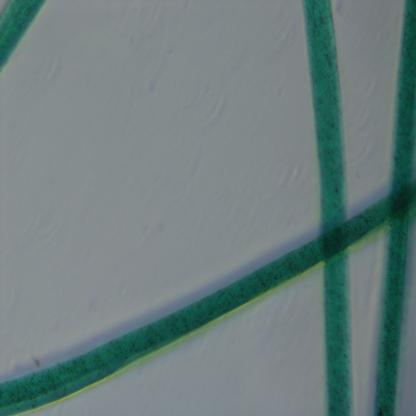Microfibre: (0, 180, 416, 415), (299, 1, 354, 415), (372, 0, 416, 416), (0, 0, 47, 73)
